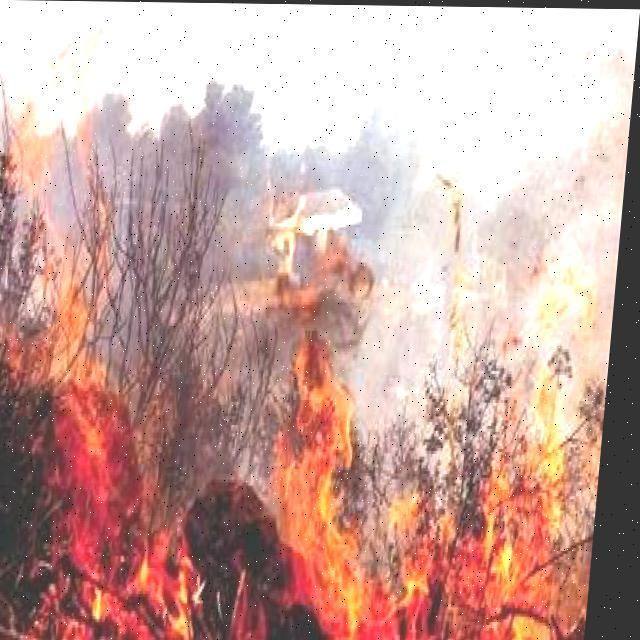Fire: (0, 123, 619, 639)
